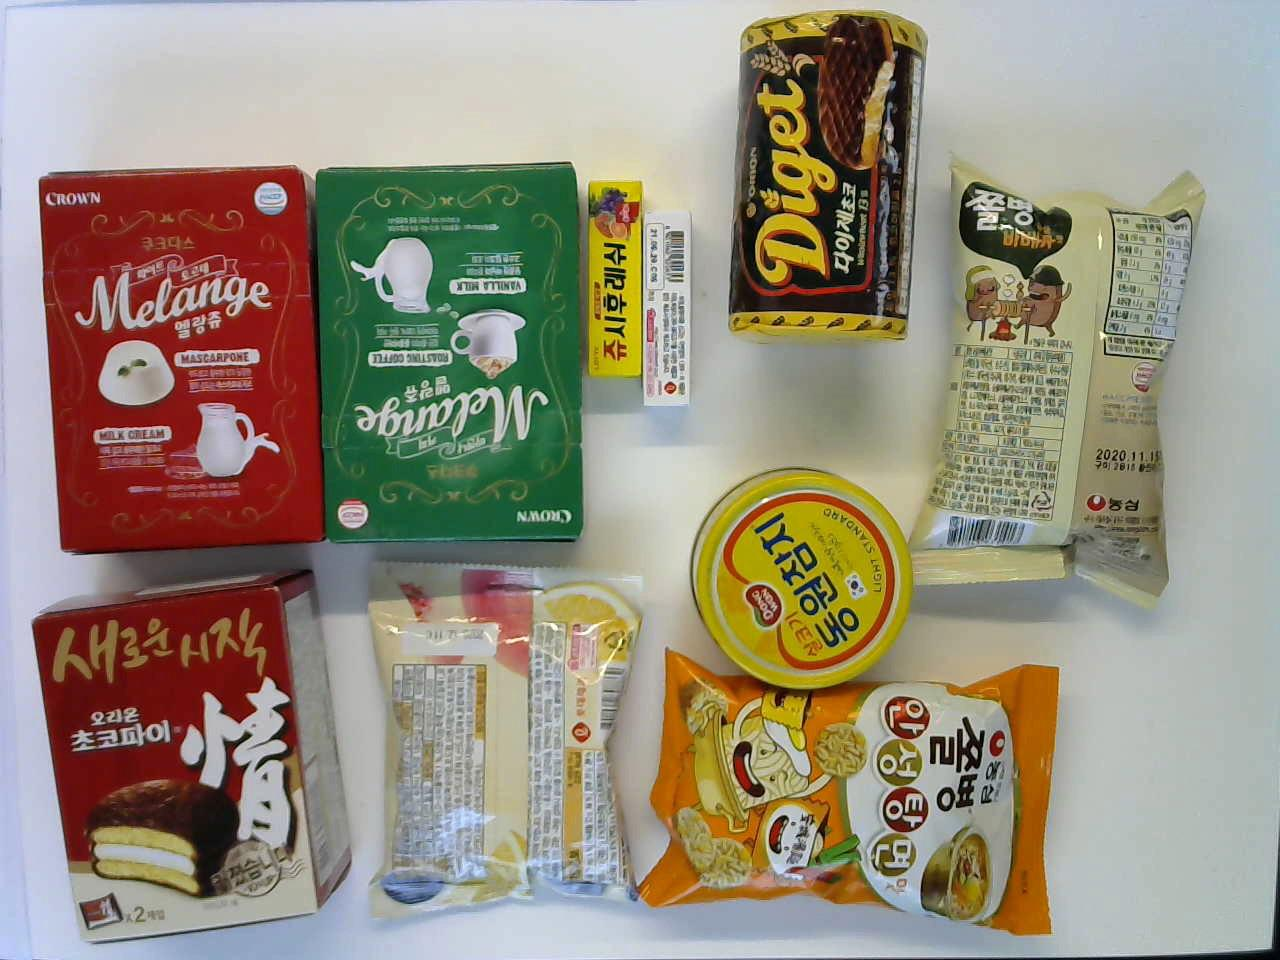chocopie: (28, 568, 349, 942)
couque_coffee: (322, 163, 579, 544)
couque_white: (32, 171, 323, 546)
diget_choco: (727, 11, 923, 336)
gumi_gumi: (367, 557, 645, 919)
jjolbyung_noodle: (648, 659, 1061, 926)
jjolbyung_ori: (904, 171, 1198, 596)
juicyfresh: (589, 178, 643, 383)
spearmint: (643, 212, 689, 405)
tuna: (682, 467, 912, 688)
